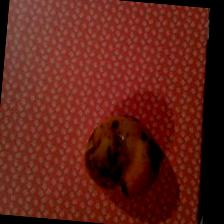Mango Rotten: (79, 112, 162, 202)
